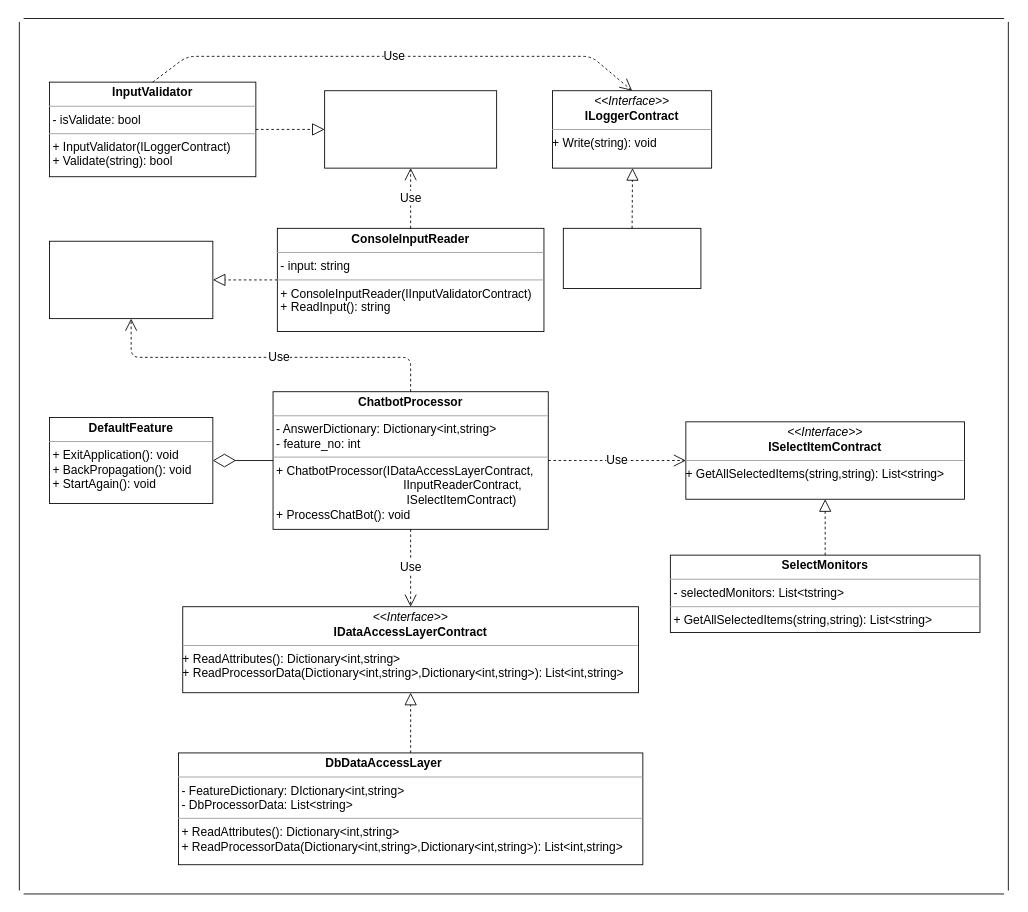
This 1028x912 diagram has some shape labels left out. Here are the shapes that lost their labels. From the top down, the centre of each, then its label:
At [410,129]: "<<Interface>> IInputValidatorContract + Validate(string): bool".
At [631,258]: "ConsoleLogger + Write(string): void".
At [131,279]: "<<Interface>> IInputReaderContract + ReadInput(): string".
